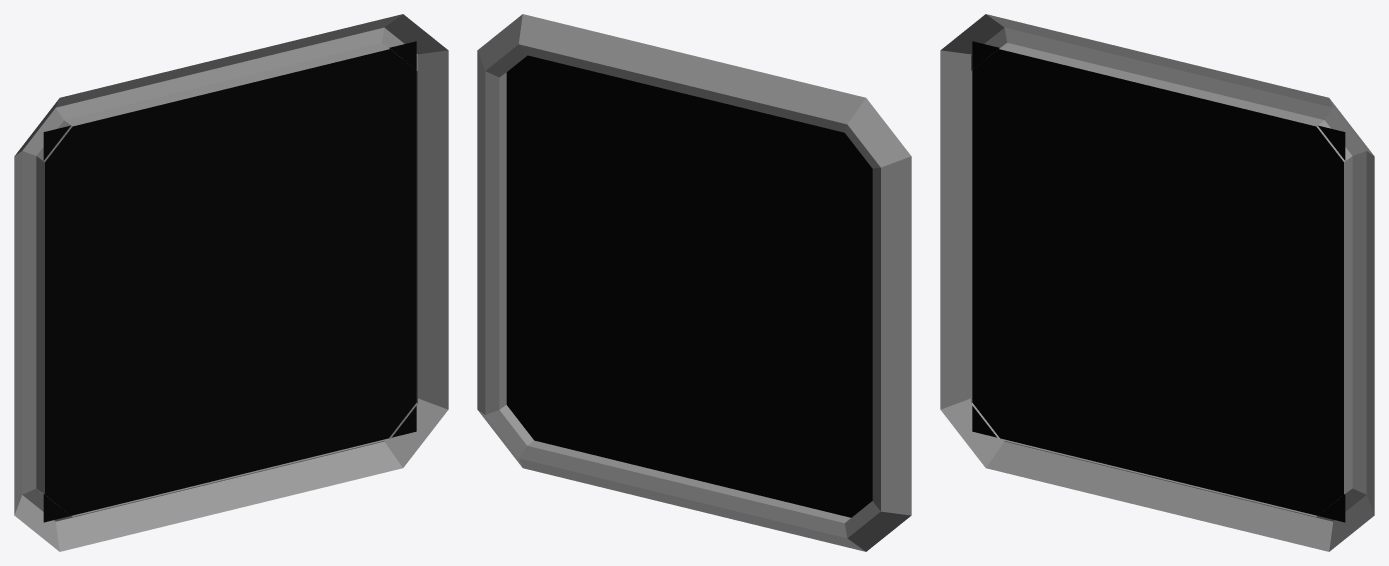
File: Menu3D_Button_Square.glb
The picture shows the model from 3 angles, left to right: view 1: azimuth 30°, elevation 25°; view 2: azimuth 150°, elevation 25°; view 3: azimuth 330°, elevation 25°; orthographic projection.
Parts seen in each view (by area): view 1: MenuButton3D; view 2: MenuButton3D; view 3: MenuButton3D.
Part boxes in pixels (x1,y1,x2,y2): MenuButton3D: [14, 14, 448, 551]; MenuButton3D: [477, 14, 911, 551]; MenuButton3D: [940, 14, 1374, 551].
Bounding box in the file's own units: 1.73 × 1.73 × 0.0789.
Materials: 1 (1 with a texture image).
